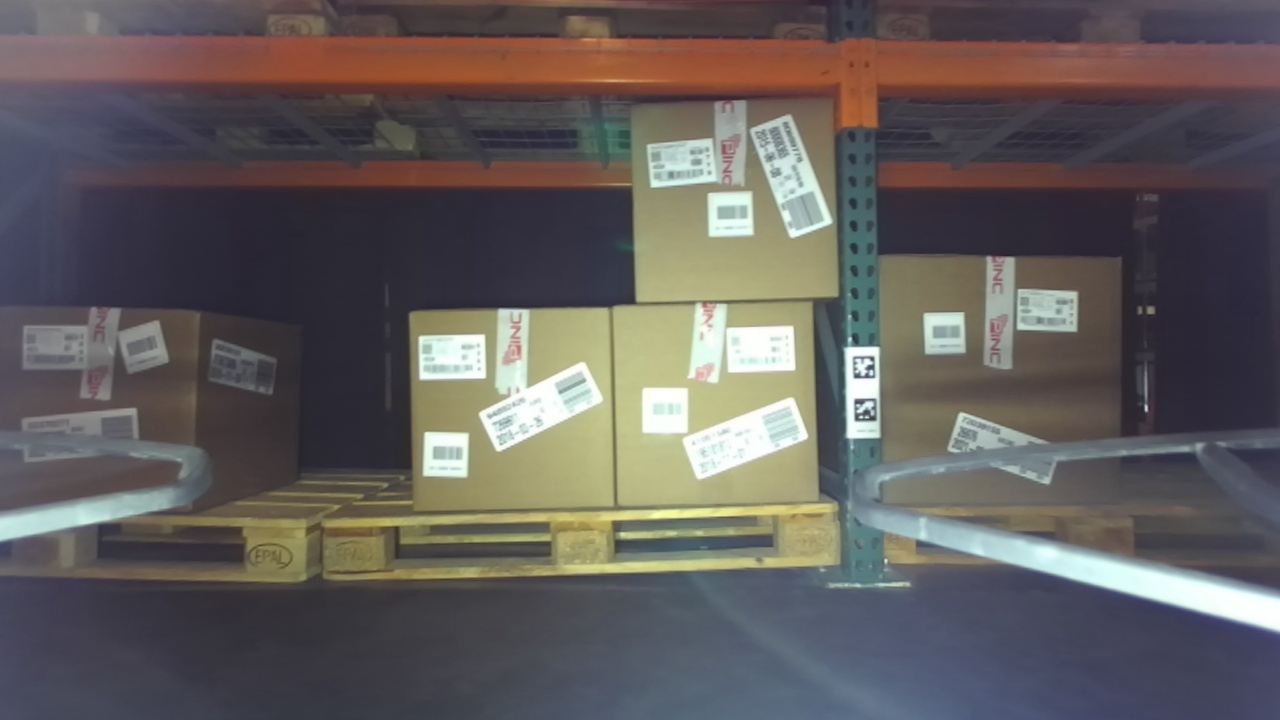box: (865, 248, 1133, 520), (601, 288, 847, 521), (616, 81, 859, 316), (386, 298, 633, 529), (2, 288, 217, 517)
